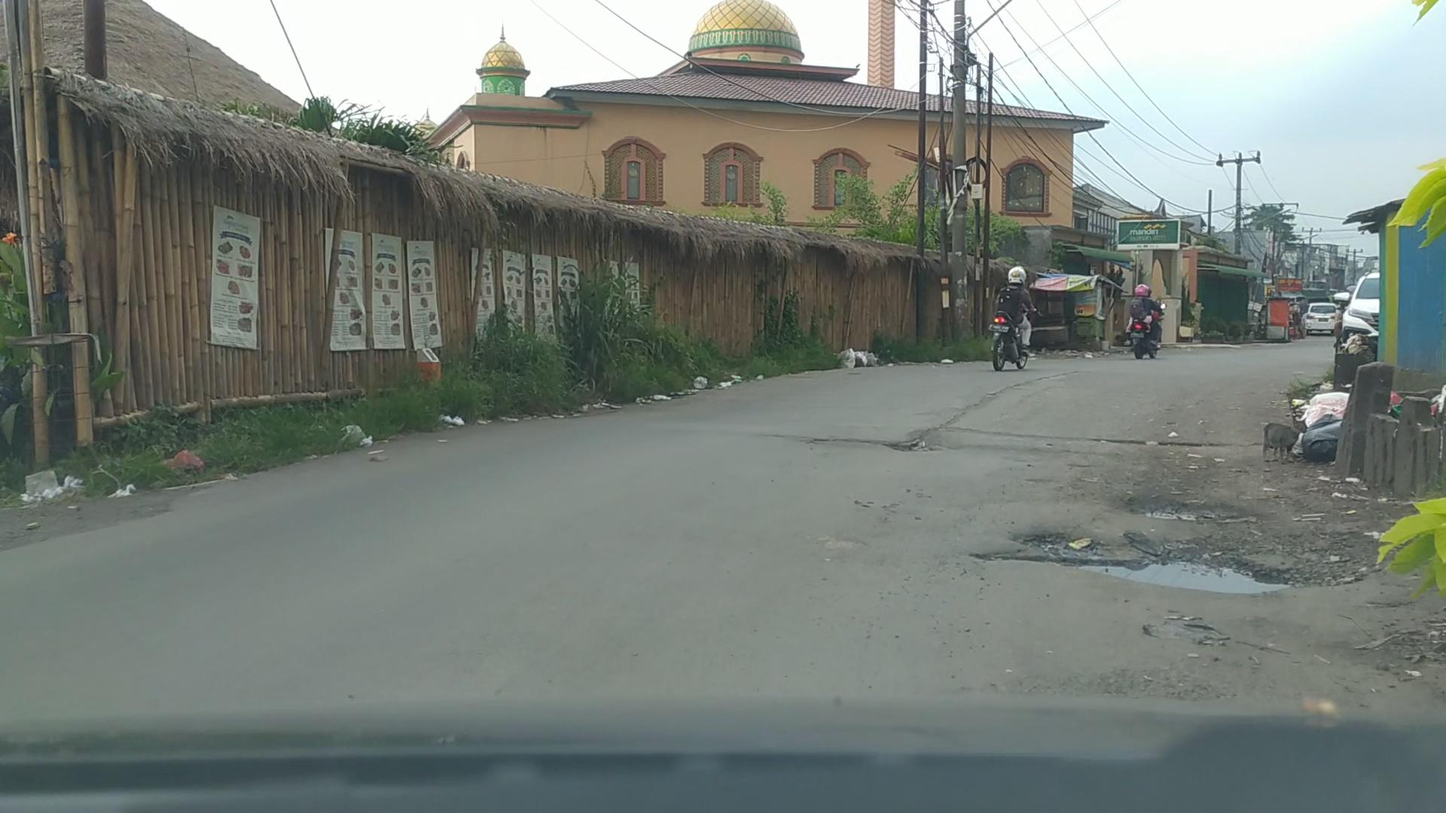pothole: (982, 550, 1316, 593), (1138, 496, 1239, 518), (877, 436, 939, 453)
